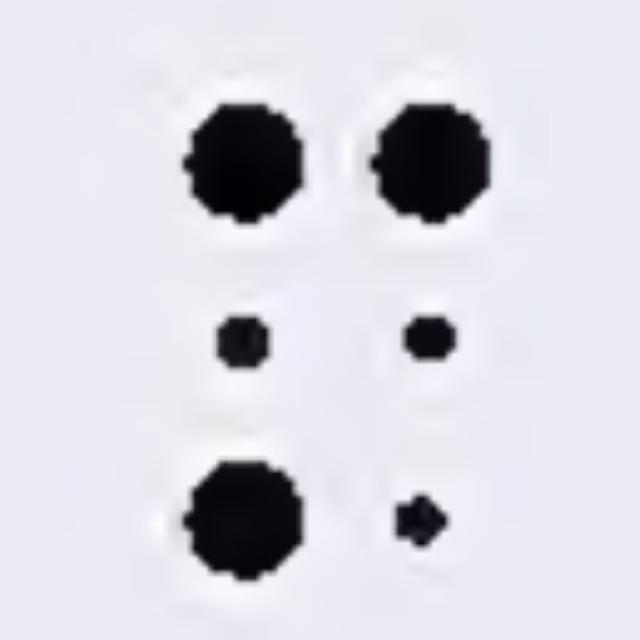letter_m: (179, 105, 487, 583)
